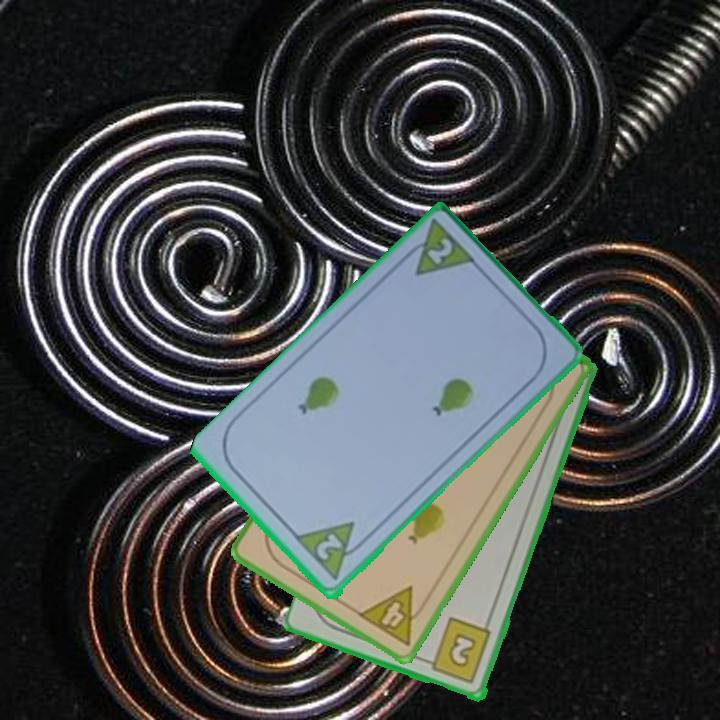2b: (420, 615, 494, 687)
2p: (293, 518, 371, 585), (423, 234, 456, 269)
4p: (354, 582, 433, 649)
